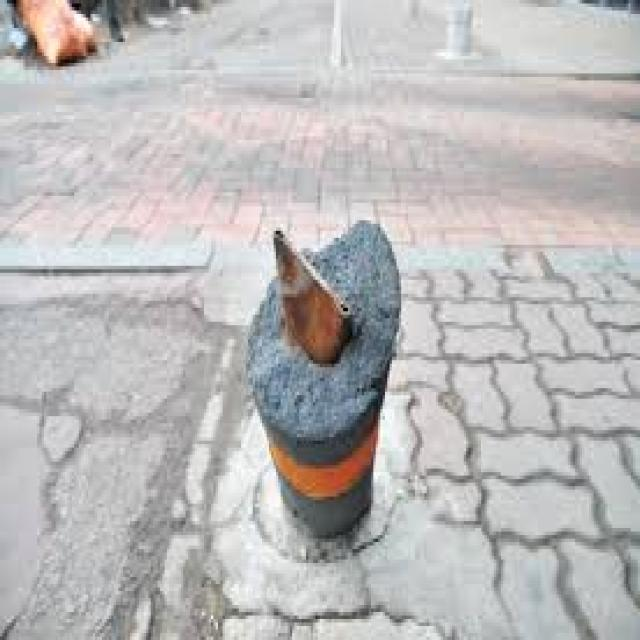bollard: (235, 202, 418, 594), (440, 0, 482, 64)
